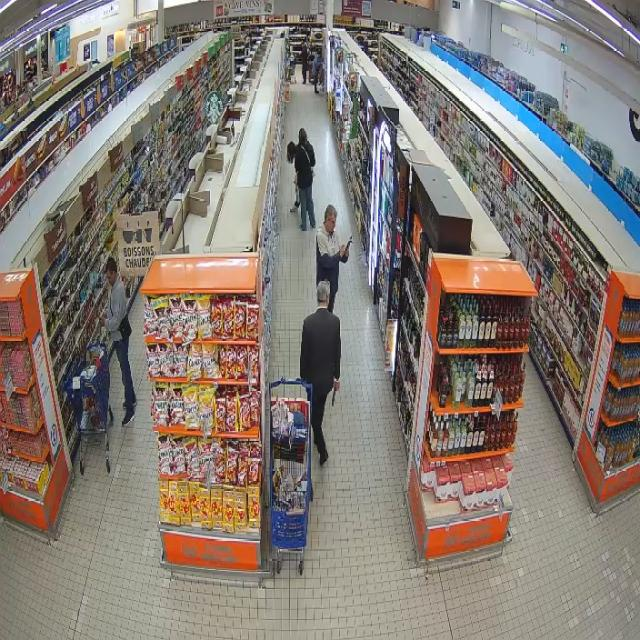article: (344, 236, 353, 257), (331, 389, 336, 407)
bags: (302, 145, 315, 177), (118, 314, 132, 339)
hands: (340, 245, 347, 257), (99, 316, 106, 326), (334, 381, 339, 392), (345, 246, 349, 258), (294, 175, 297, 185)
person: (300, 281, 340, 466), (100, 257, 137, 426), (317, 205, 349, 312), (295, 128, 315, 231), (290, 175, 299, 213)
